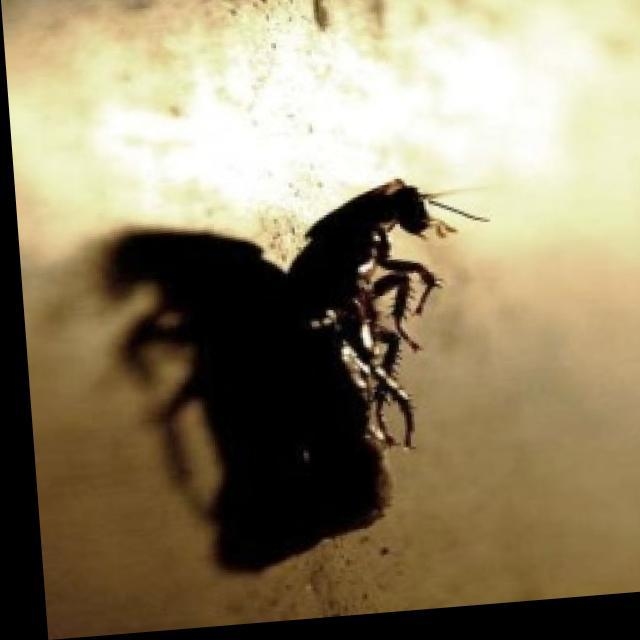cockroach: (88, 172, 494, 577)
